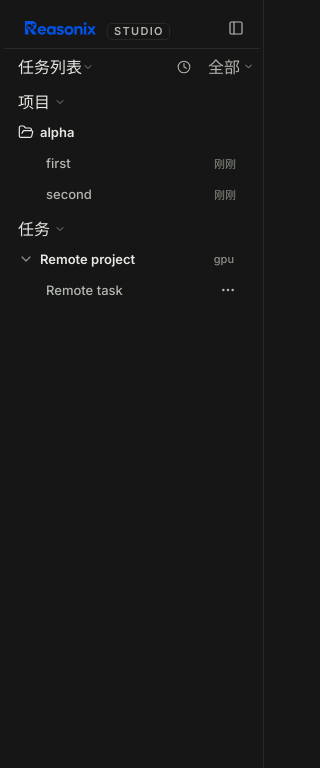
it: folds local projects from the group head and leaves SSH rows to their own folds
Expected: the text "first" is shown, [46,155,71,171]
Expected: the text "Remote task" is shown, [46,282,123,298]
Click the button with aria-label "收起所有项目". click: click(112, 102)
box: [10,88,214,116]
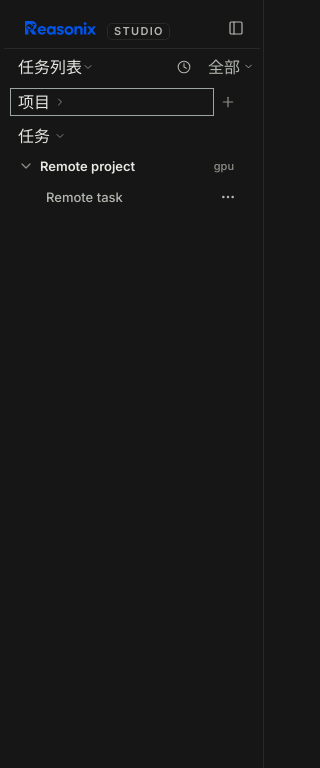
Expected: the text "Remote task" is shown, [46,189,123,205]
Now the text "first" is gone
Click the list item "Remote project gpu". click: click(126, 166)
box: [18,158,234,174]
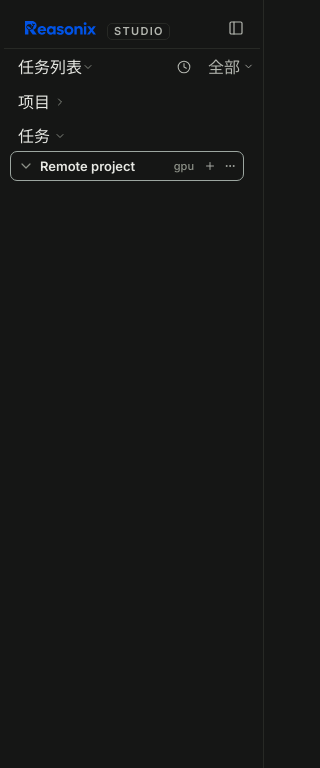
Now the text "Remote task" is gone
Click the button with aria-label "展开所有项目". click: click(112, 102)
box: [10,88,214,116]
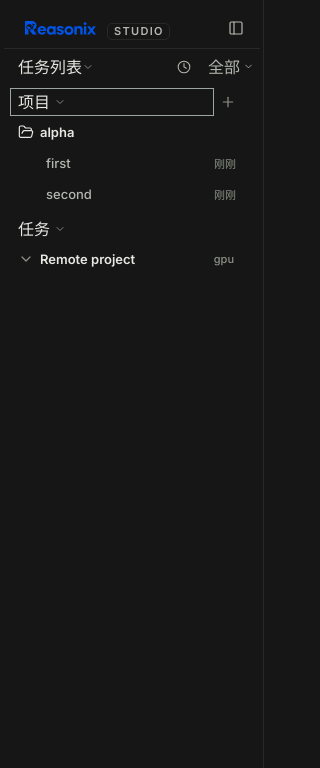
Expected: the text "Remote task" is not shown
Now the text "first" is shown, box [46,155,71,171]
Click the list item "Remote project gpu". click: click(126, 259)
box: [18,251,234,267]
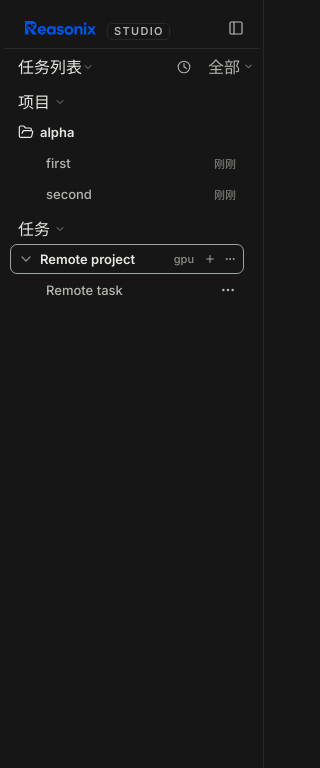
Now the text "Remote task" is shown, box [46,282,123,298]
